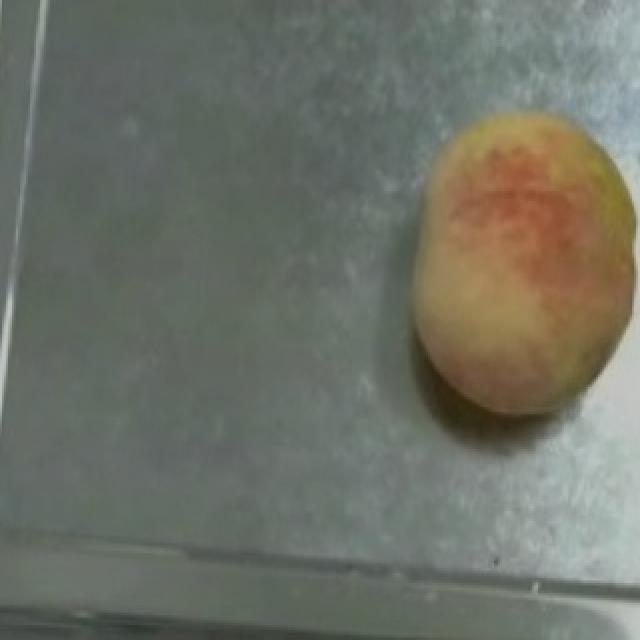Fruit: (380, 84, 640, 429)
